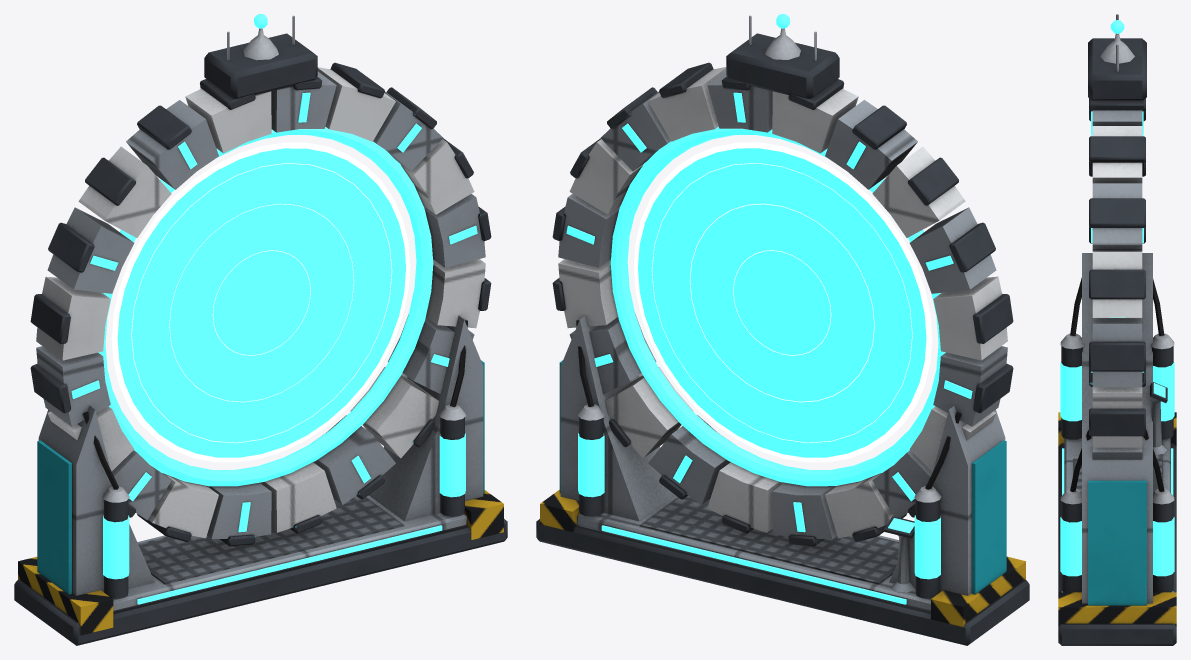
Rendered from portal_espacial.fbx.
3 renders of one model, left to right at view 1: azimuth 30°, elevation 25°; view 2: azimuth 150°, elevation 25°; view 3: azimuth 270°, elevation 25°, orthographic. The views are drawn at different scales.
Parts seen in each view (by area): view 1: portal_espacial, portal_espacial_velo_neon, portal_espacial_anillo_neon, portal_espacial_neon, portal_espacial_blanco_luz, portal_espacial_ondas_neon; view 2: portal_espacial, portal_espacial_velo_neon, portal_espacial_anillo_neon, portal_espacial_neon, portal_espacial_blanco_luz, portal_espacial_ondas_neon; view 3: portal_espacial, portal_espacial_neon.
Boxes of the visible parts, x1,y1,x2,y2 form: portal_espacial: (14,15,507,645); portal_espacial_velo_neon: (117,148,405,457); portal_espacial_anillo_neon: (98,127,433,486); portal_espacial_neon: (71,14,477,604); portal_espacial_blanco_luz: (111,142,410,462); portal_espacial_ondas_neon: (131,163,392,443); portal_espacial: (536,15,1029,645); portal_espacial_velo_neon: (638,148,926,457); portal_espacial_anillo_neon: (610,126,945,486); portal_espacial_neon: (566,14,972,604); portal_espacial_blanco_luz: (634,142,932,462); portal_espacial_ondas_neon: (651,163,912,443); portal_espacial: (1058,14,1176,645); portal_espacial_neon: (1060,20,1174,592).
Size of the model in its own units: 8 by 9.82 by 2.
2 materials, 2 textured.
